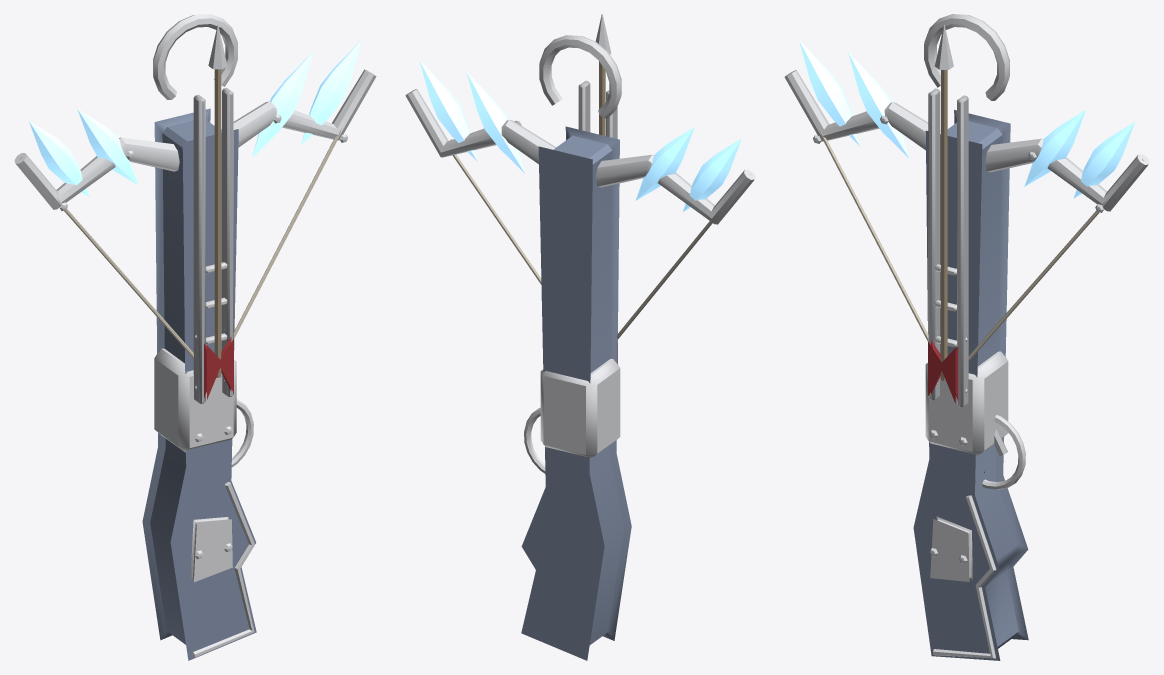
Rendered from frost_fork_crossbow.glb.
The picture shows the model from 3 angles, left to right: view 1: azimuth 30°, elevation 25°; view 2: azimuth 150°, elevation 25°; view 3: azimuth 330°, elevation 25°; orthographic projection. The views are drawn at different scales.
Visible parts, largest first — view 1: frost_fork_crossbow; view 2: frost_fork_crossbow; view 3: frost_fork_crossbow.
Boxes of the visible parts, <box> form: frost_fork_crossbow: <box>14,14,376,660</box>; frost_fork_crossbow: <box>405,14,755,660</box>; frost_fork_crossbow: <box>784,14,1149,660</box>.
Bounding box in the file's own units: 0.7411 × 1.25 × 0.1545.
